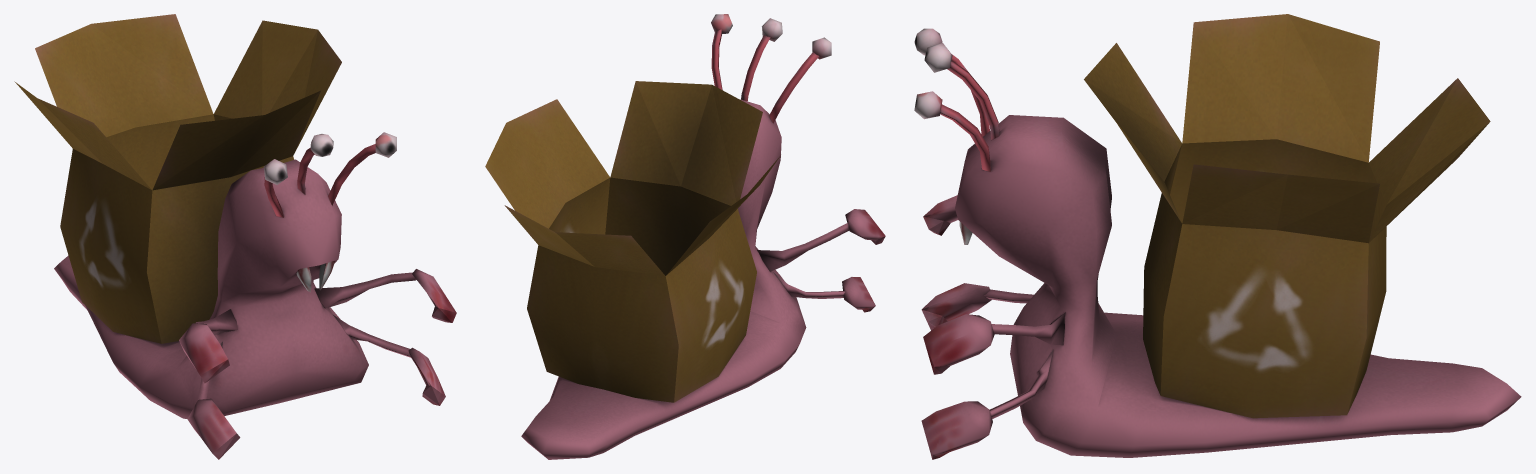
Rendered from fake_GroundCharacter01.FBX.
The picture shows the model from 3 angles, left to right: view 1: azimuth 30°, elevation 25°; view 2: azimuth 150°, elevation 25°; view 3: azimuth 270°, elevation 25°; orthographic projection. The views are drawn at different scales.
Visible parts, largest first — view 1: Object001, Box002, Object002, Object004, Object003; view 2: Object001, Box002, Object002, Object004; view 3: Object001, Box002, Object002, Object004.
Part boxes in pixels (x1,y1,x2,y2): Object001: [14, 14, 341, 343]; Box002: [54, 159, 368, 418]; Object002: [179, 269, 456, 459]; Object004: [263, 132, 396, 217]; Object003: [296, 261, 334, 292]; Object001: [485, 81, 780, 402]; Box002: [521, 99, 806, 459]; Object002: [757, 209, 885, 312]; Object004: [711, 14, 831, 123]; Object001: [1084, 14, 1490, 418]; Box002: [955, 115, 1521, 457]; Object002: [921, 195, 1065, 459]; Object004: [914, 28, 999, 171].
Size of the model in its own units: 57.14 by 60.98 by 91.34.
